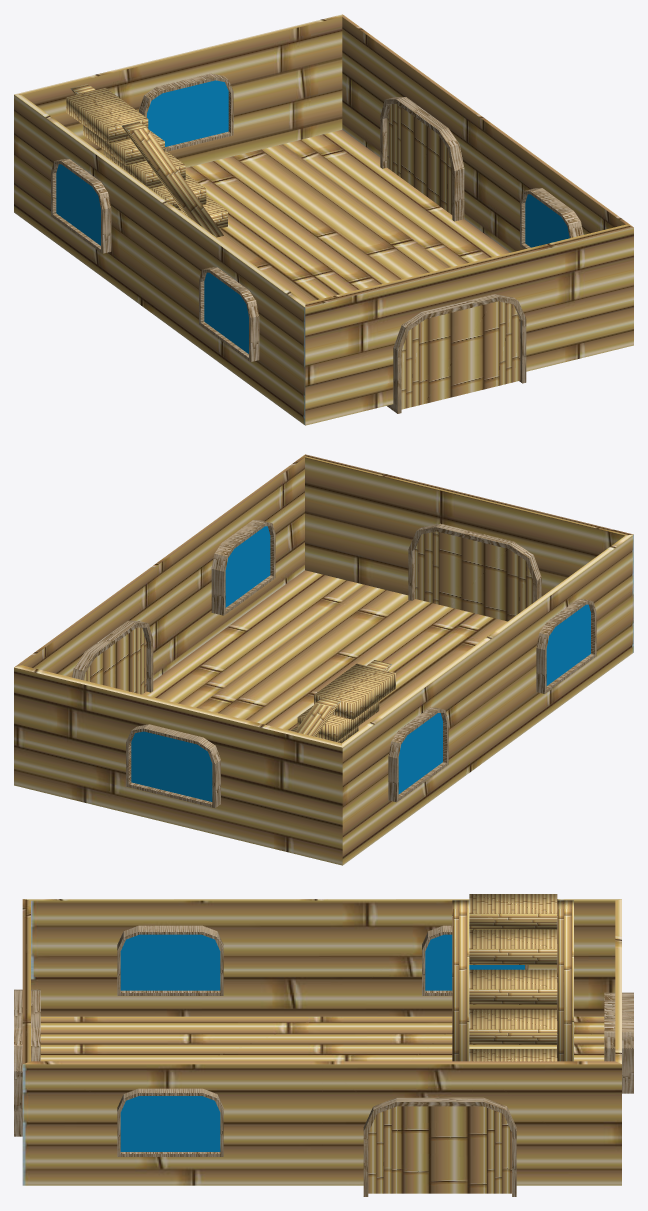
The model's file is CajaCasa 3.4 Interior 1.fbx.
The picture shows the model from 3 angles, top to bottom: view 1: azimuth 30°, elevation 25°; view 2: azimuth 150°, elevation 25°; view 3: azimuth 270°, elevation 25°; orthographic projection. The views are drawn at different scales.
Visible parts, largest first — view 1: Marco Puerta 1.017; view 2: Marco Puerta 1.017; view 3: Marco Puerta 1.017.
Part boxes in pixels (x1,y1,x2,y2): Marco Puerta 1.017: (14,14,633,425); Marco Puerta 1.017: (14,454,633,865); Marco Puerta 1.017: (14,894,633,1196).
Size of the model in its own units: 511 by 197 by 770.
14 materials, 10 textured.
